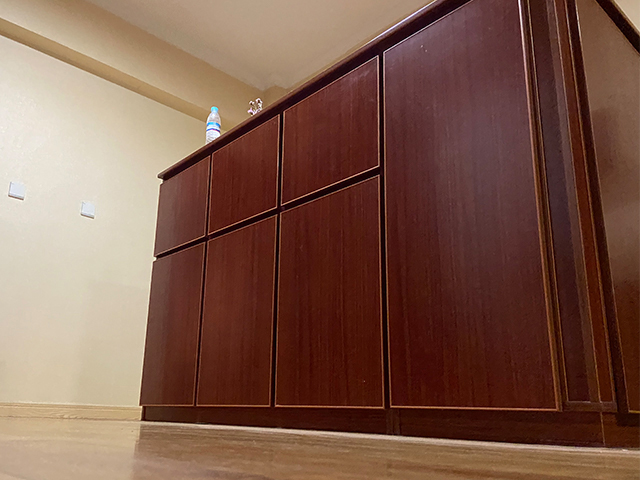cabinet: (137, 1, 640, 450)
